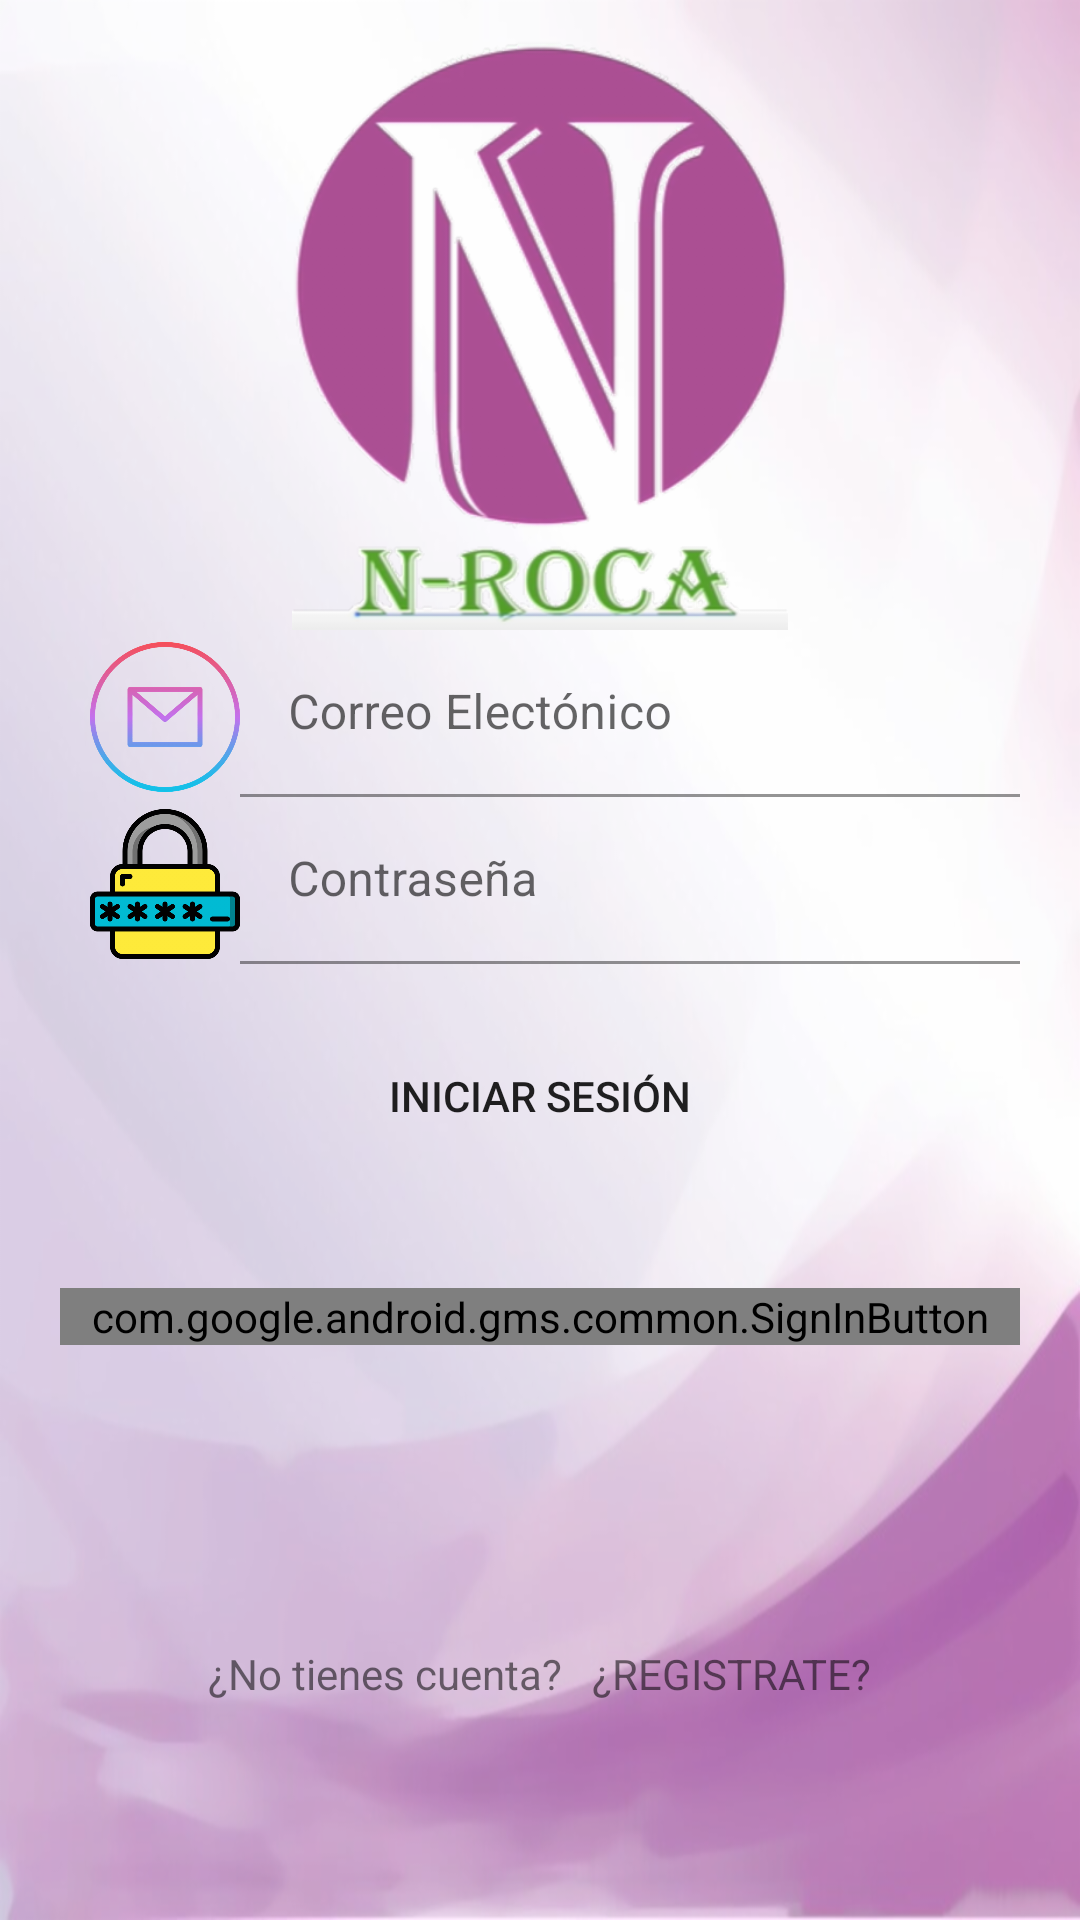

Where to tap for icons on this 1080*1920 app screen, as point (x, y):
email: point (165, 717)
